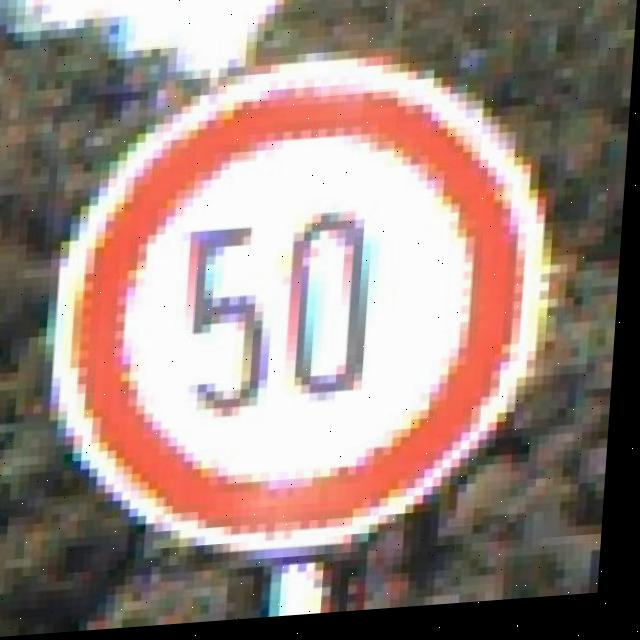Speed limit 50: (46, 49, 564, 572)
